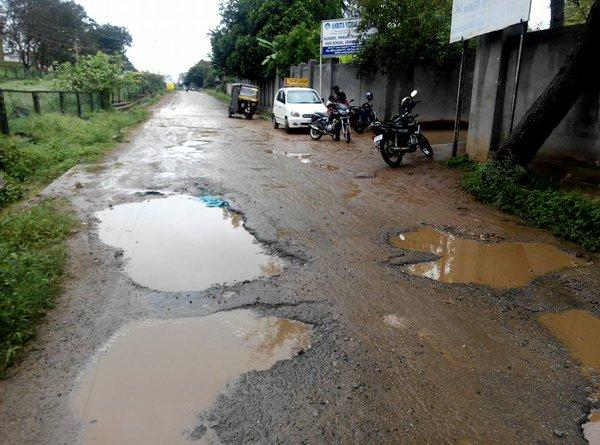pothole: (59, 183, 338, 439), (376, 184, 600, 443)
